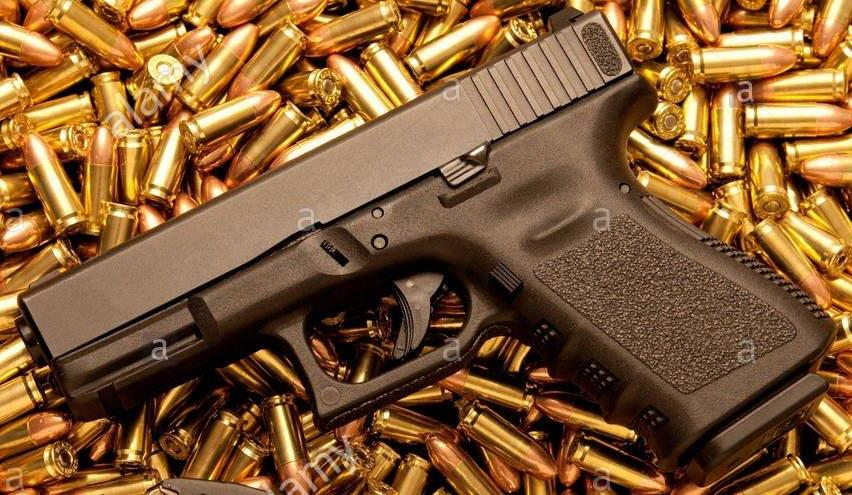gun: (1, 0, 852, 495)
